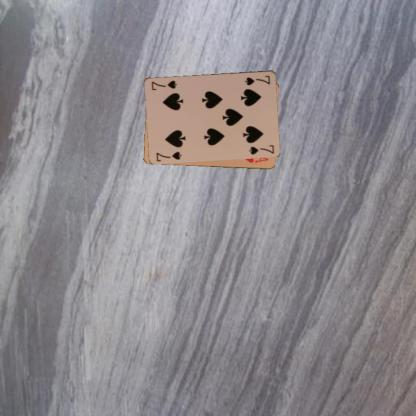7s: (242, 73, 272, 86), (154, 149, 182, 162)
